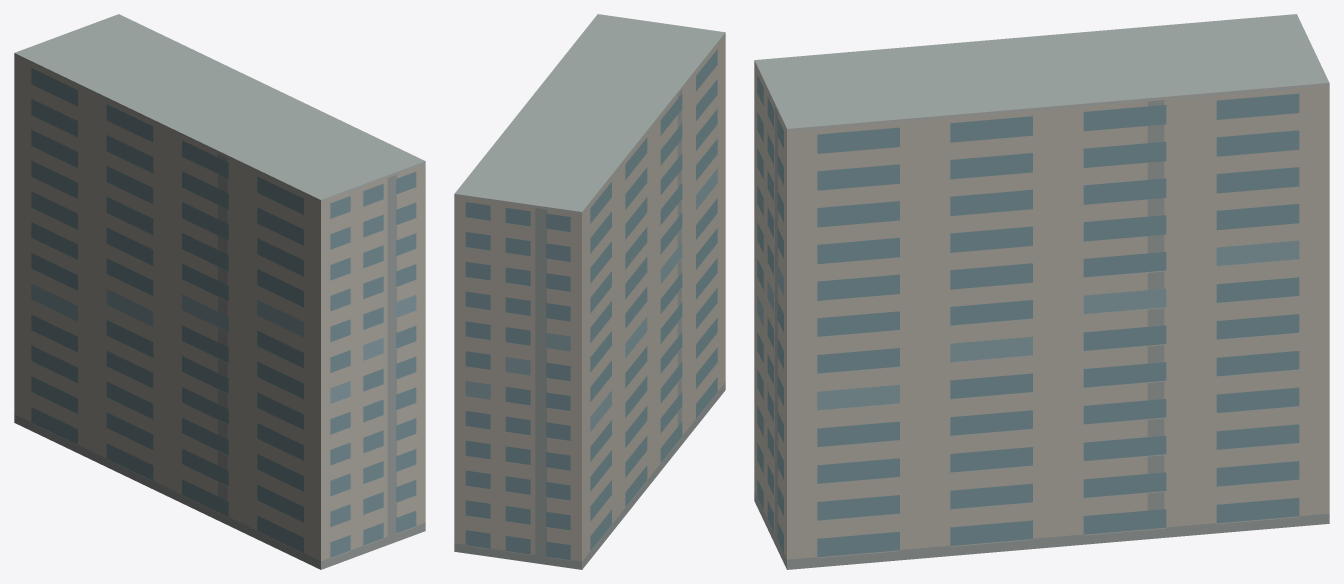
File: residential-a154b391-8cf5-4966-a936-8c4d176be04d.glb
3 renders of one model, left to right at view 1: azimuth 30°, elevation 25°; view 2: azimuth 150°, elevation 25°; view 3: azimuth 270°, elevation 25°, orthographic. The views are drawn at different scales.
Visible parts, largest first — view 1: residential-a154b391-8cf5-4966-a936-8c4d176be04d.tmp; view 2: residential-a154b391-8cf5-4966-a936-8c4d176be04d.tmp; view 3: residential-a154b391-8cf5-4966-a936-8c4d176be04d.tmp.
Part boxes in pixels (x1,y1,x2,y2): residential-a154b391-8cf5-4966-a936-8c4d176be04d.tmp: [14, 14, 425, 569]; residential-a154b391-8cf5-4966-a936-8c4d176be04d.tmp: [454, 14, 725, 569]; residential-a154b391-8cf5-4966-a936-8c4d176be04d.tmp: [754, 14, 1329, 569].
Size of the model in its own units: 19.02 by 34 by 40.2.
